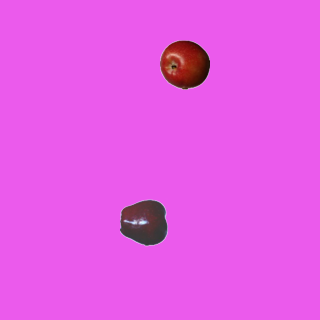Apple Braeburn: (159, 39, 209, 89)
Apple Red Delicious: (119, 197, 169, 247)
